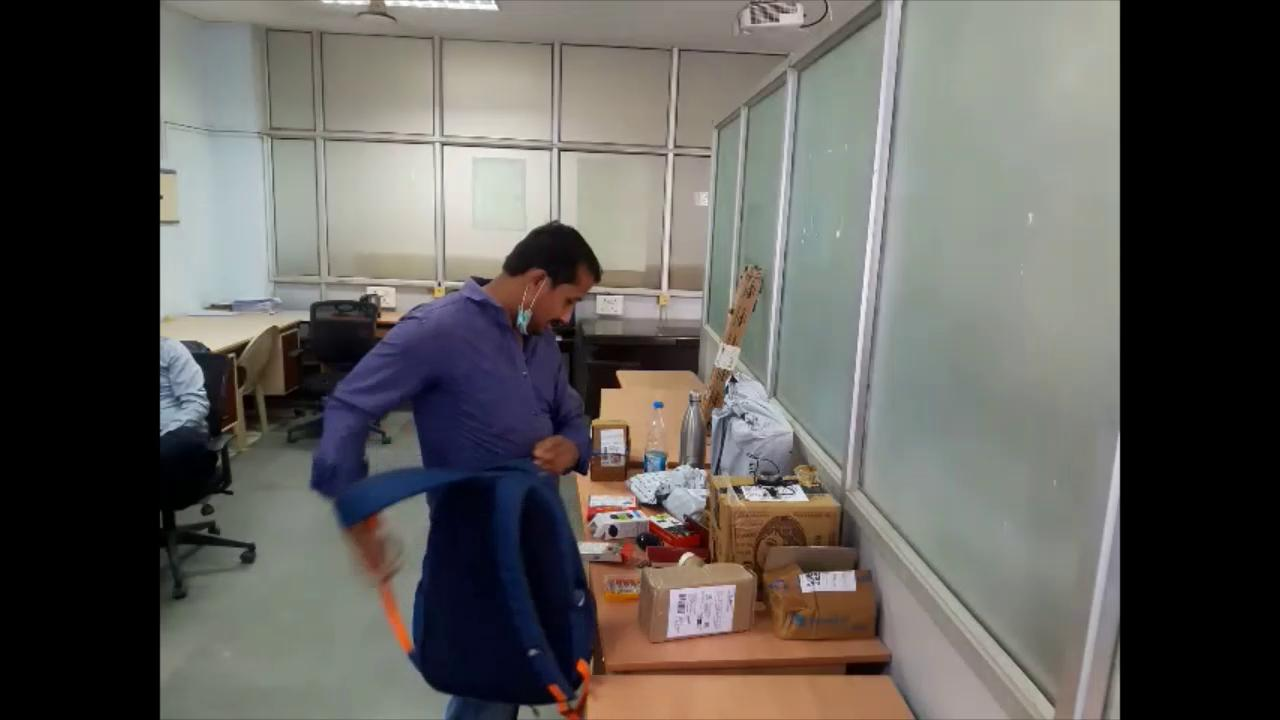Normal: (309, 214, 618, 720)
